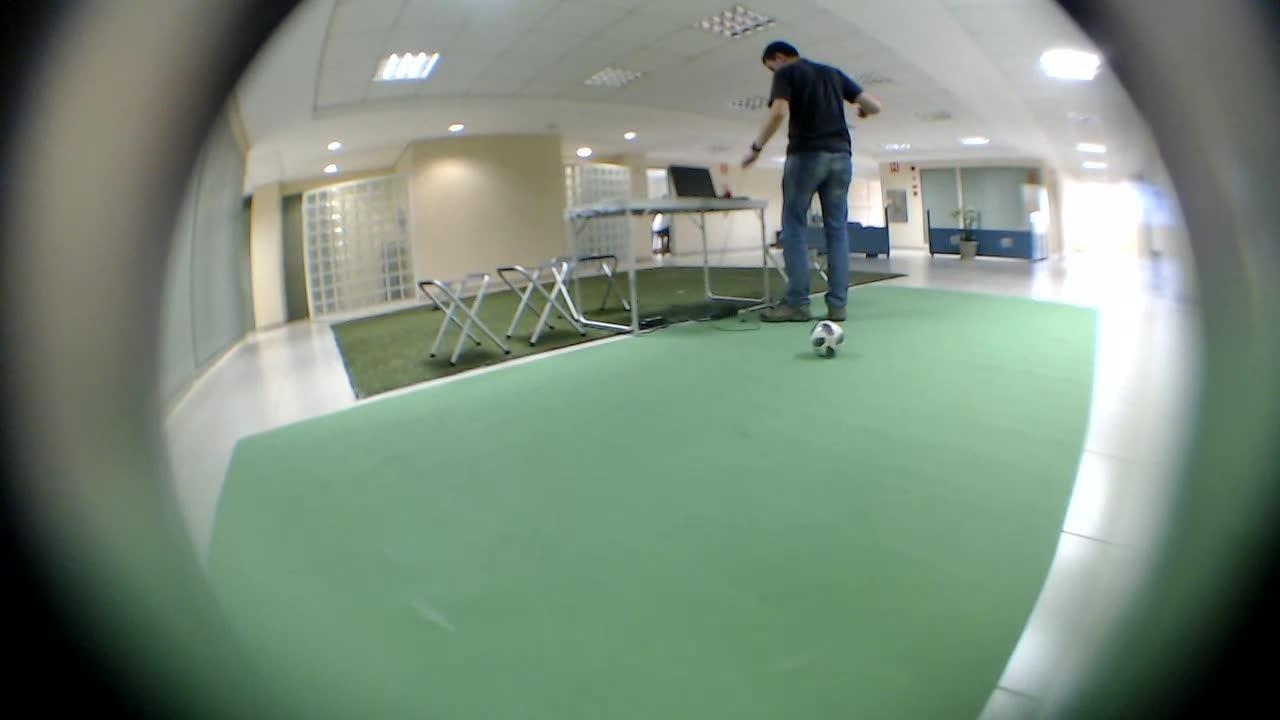ball: (798, 309, 847, 363)
